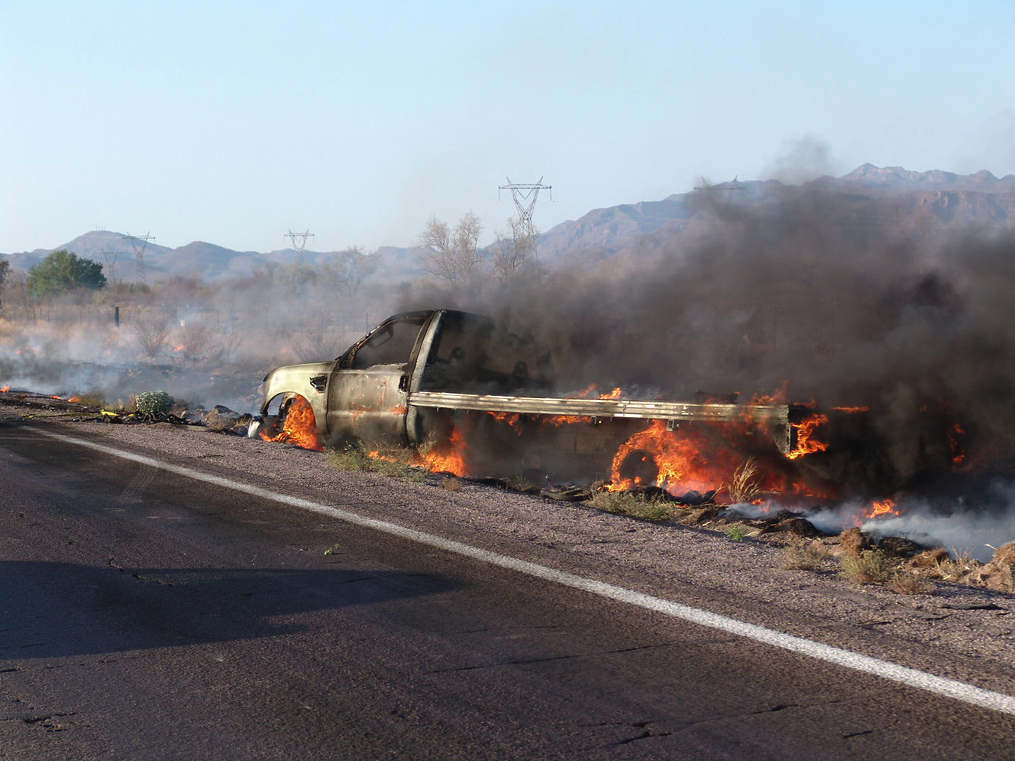fire: (352, 367, 866, 512)
